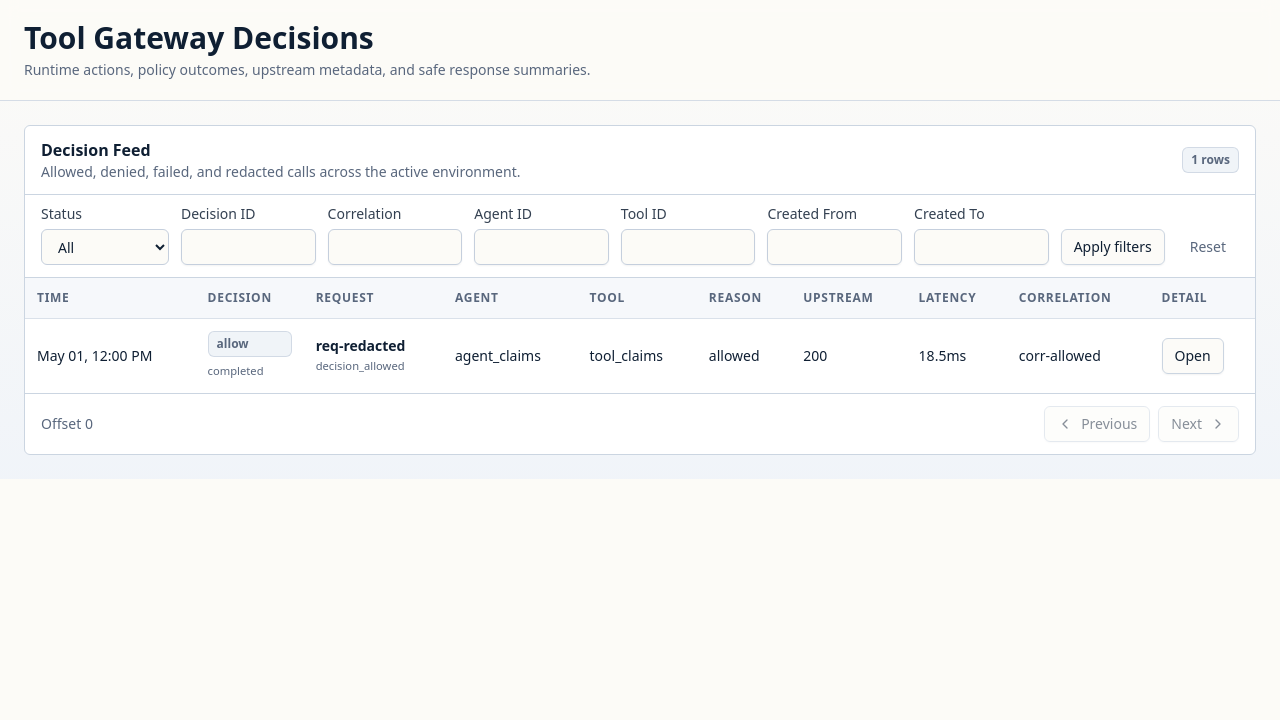
it: ToolDecisionsPage › marks redacted responses in the drawer
Step 1. Click the button "Open" → point(1193, 356), box left=1162, top=338, right=1224, bottom=374
(page scrolled)
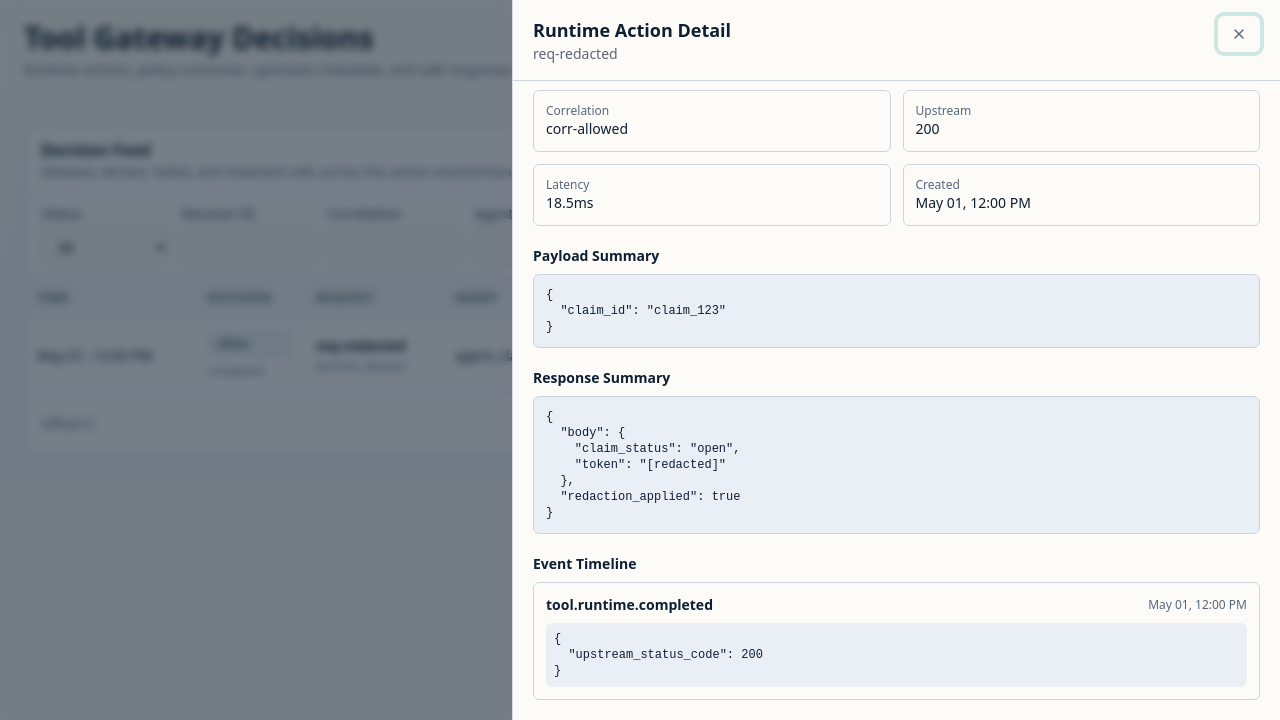
Expected: the text "[redacted]" is shown, left=546, top=410, right=740, bottom=520
